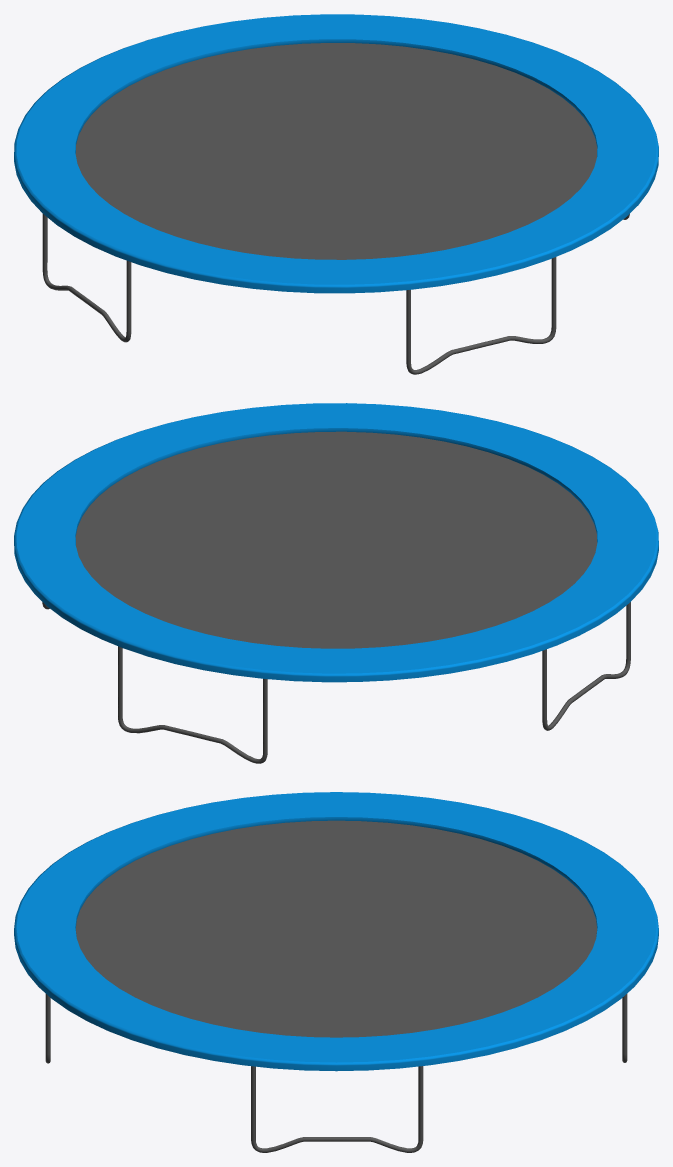
The model's file is Trampoline.fbx.
The picture shows the model from 3 angles, top to bottom: view 1: azimuth 30°, elevation 25°; view 2: azimuth 150°, elevation 25°; view 3: azimuth 270°, elevation 25°; orthographic projection.
Visible parts, largest first — view 1: trampoline:polySurface1; view 2: trampoline:polySurface1; view 3: trampoline:polySurface1.
Part boxes in pixels (left/top/right/bottom): trampoline:polySurface1: left=14, top=14, right=658, bottom=374; trampoline:polySurface1: left=14, top=403, right=658, bottom=763; trampoline:polySurface1: left=14, top=792, right=658, bottom=1152.
Size of the model in its own units: 300 by 53.23 by 300.
